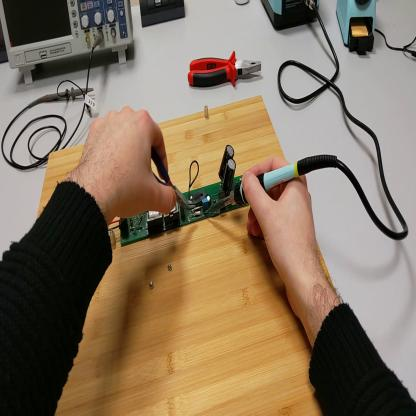hand: (77, 107, 176, 220), (242, 155, 322, 293)
high voltage board: (106, 145, 249, 245)
oscilloscope: (2, 2, 135, 83)
oscilloscope probe tip: (35, 86, 96, 111)
pliers: (187, 47, 262, 92), (149, 151, 193, 215)
welder base: (338, 2, 377, 60)
welder probe tip: (205, 144, 337, 217)
welder station: (260, 1, 320, 34)
working area: (38, 97, 333, 415)
